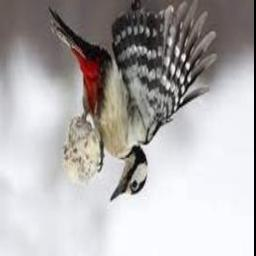Woodpecker: (48, 0, 217, 202)
